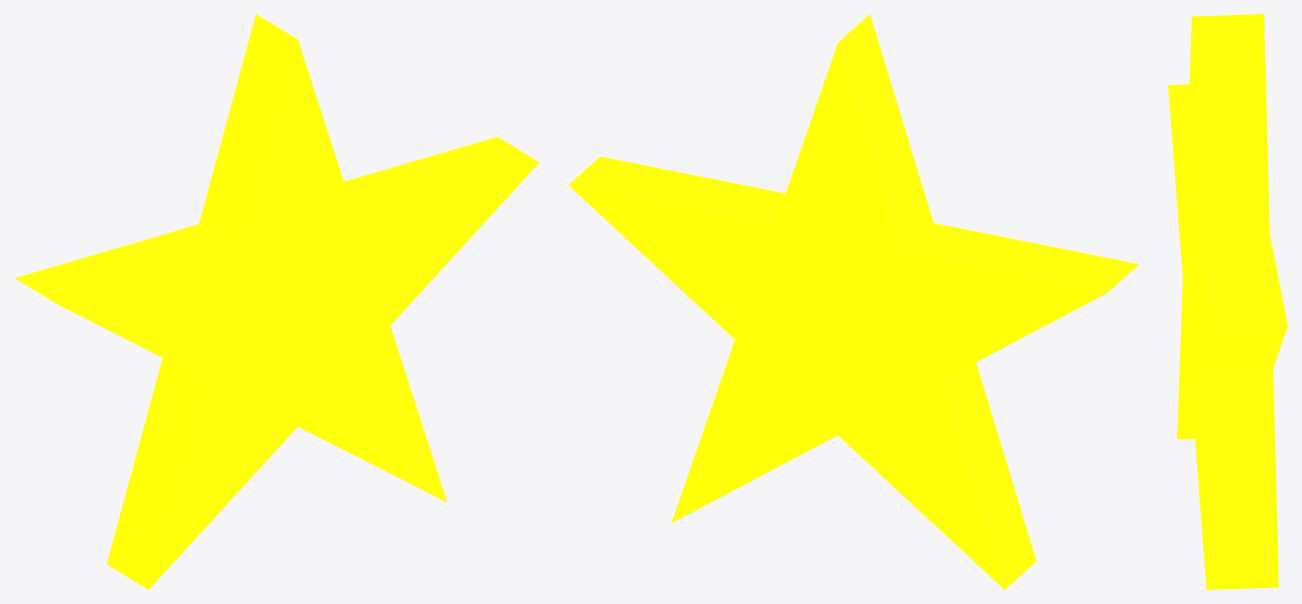
Rendered from Powerup.fbx.
3 views of the same model, side by side, from view 1: azimuth 30°, elevation 25°; view 2: azimuth 150°, elevation 25°; view 3: azimuth 270°, elevation 25° (orthographic). The views are drawn at different scales.
Visible parts, largest first — view 1: Cylinder; view 2: Cylinder; view 3: Cylinder.
Part boxes in pixels (x1,y1,x2,y2): Cylinder: [14, 14, 539, 589]; Cylinder: [568, 14, 1139, 589]; Cylinder: [1168, 14, 1287, 589].
Size of the model in its own units: 401 by 379 by 82.54.
